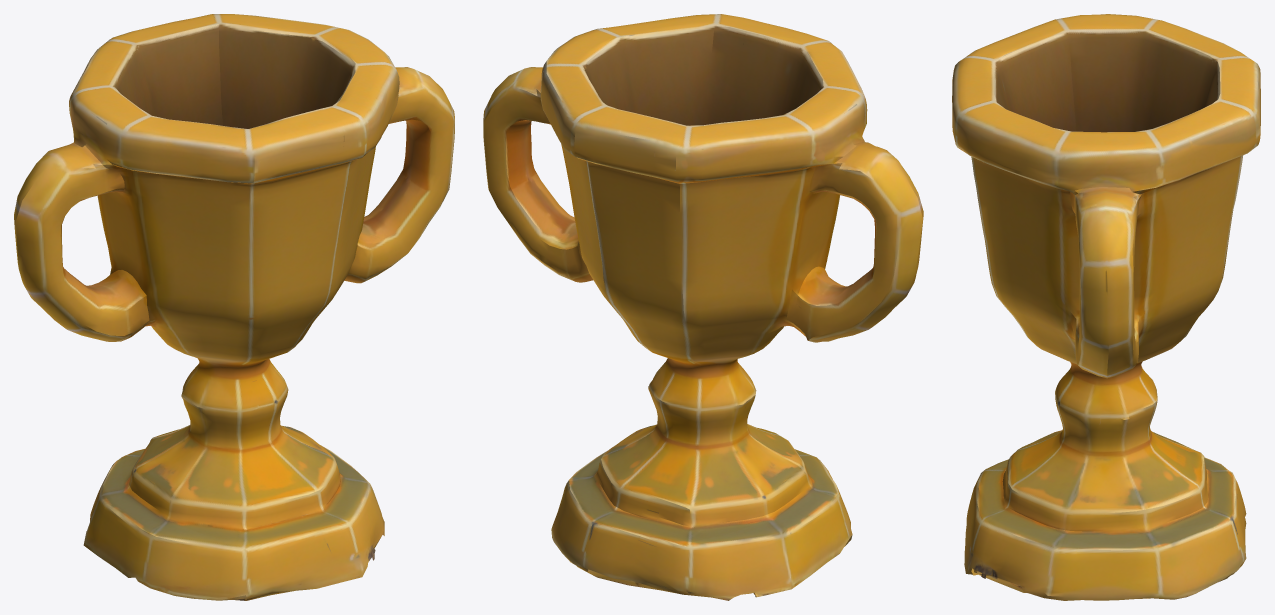
Rendered from Meshy_AI__0527155848_texture.fbx.
3 renders of one model, left to right at view 1: azimuth 30°, elevation 25°; view 2: azimuth 150°, elevation 25°; view 3: azimuth 270°, elevation 25°, orthographic.
Visible parts, largest first — view 1: Mesh0; view 2: Mesh0; view 3: Mesh0.
Boxes of the visible parts, x1,y1,x2,y2 form: Mesh0: (14, 14, 454, 600); Mesh0: (483, 14, 923, 600); Mesh0: (952, 14, 1260, 600).
Bounding box in the file's own units: 197 × 201 × 120.
1 material, 1 textured.
